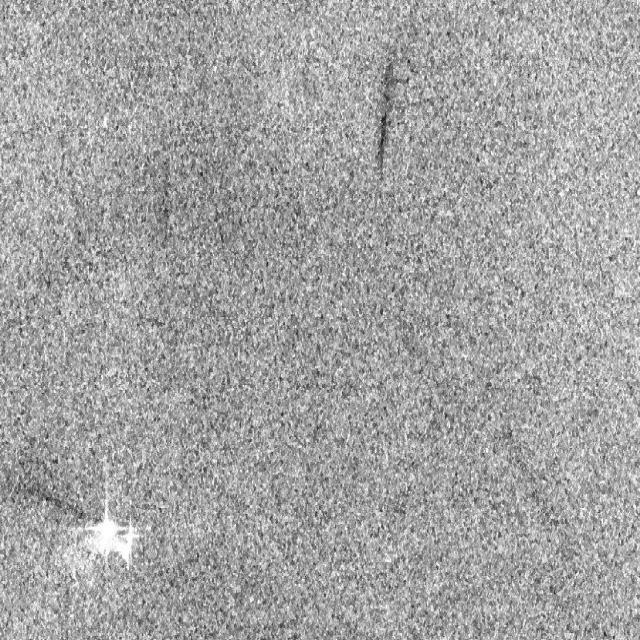oil-spill: (367, 55, 409, 186)
ship: (78, 479, 138, 583)
